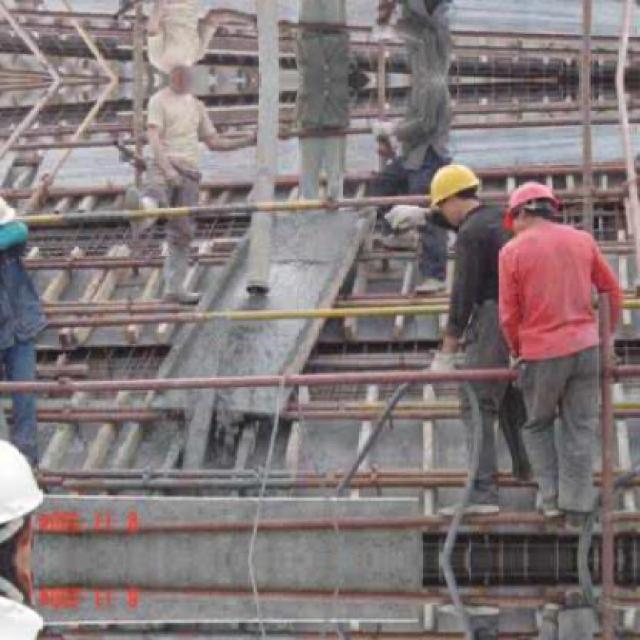helmet: (424, 158, 484, 224), (503, 179, 563, 240)
